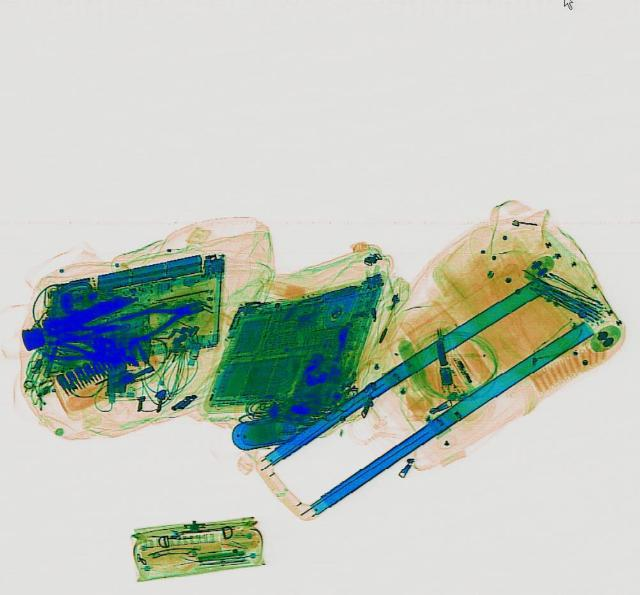Pliers: (116, 289, 208, 344), (40, 336, 109, 364)
